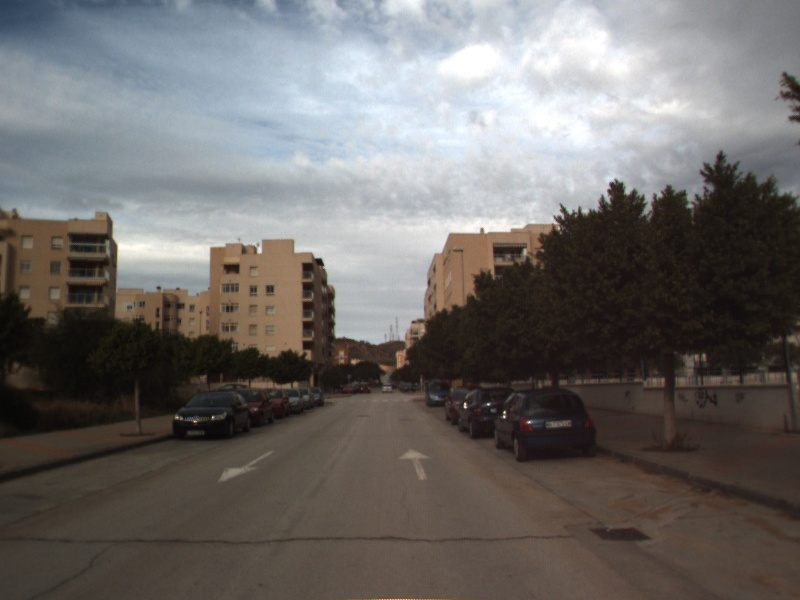STRAIGHT: (396, 446, 434, 482)
